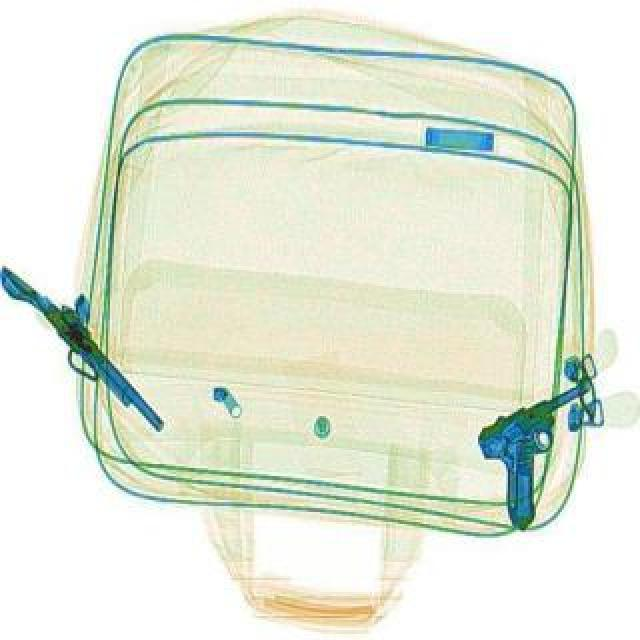gun: (0, 266, 164, 442), (462, 374, 638, 526)
